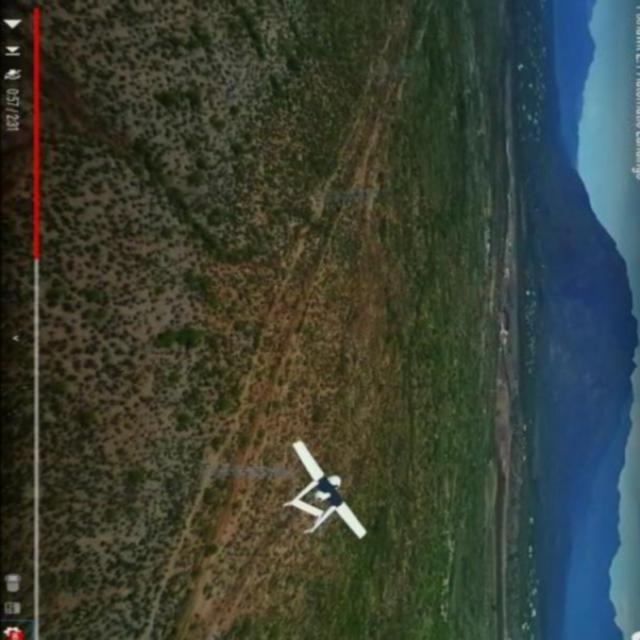plane: (281, 438, 368, 540)
